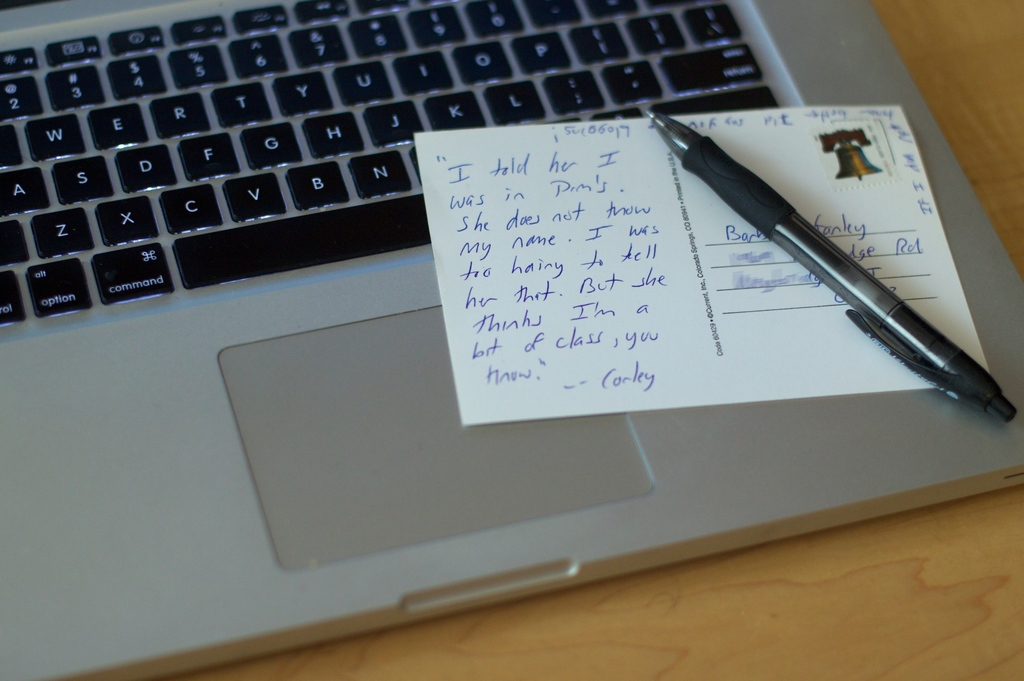Pen: (645, 95, 1021, 432)
